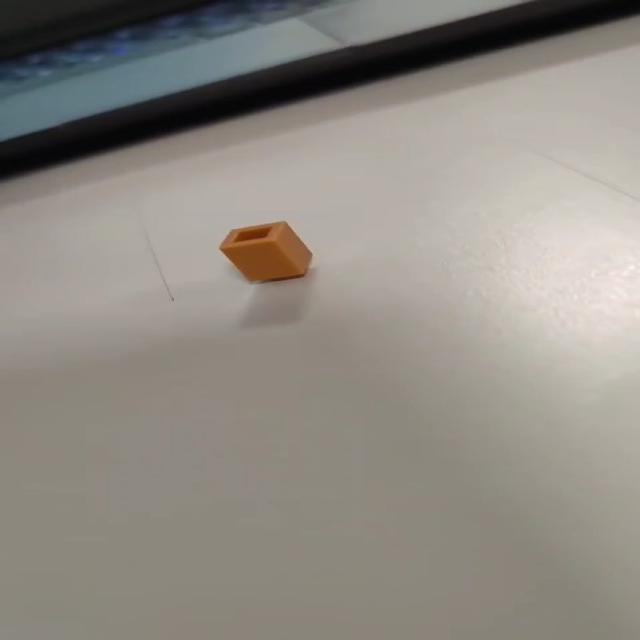C1x1x1: (219, 221, 317, 283), (218, 221, 312, 283)
